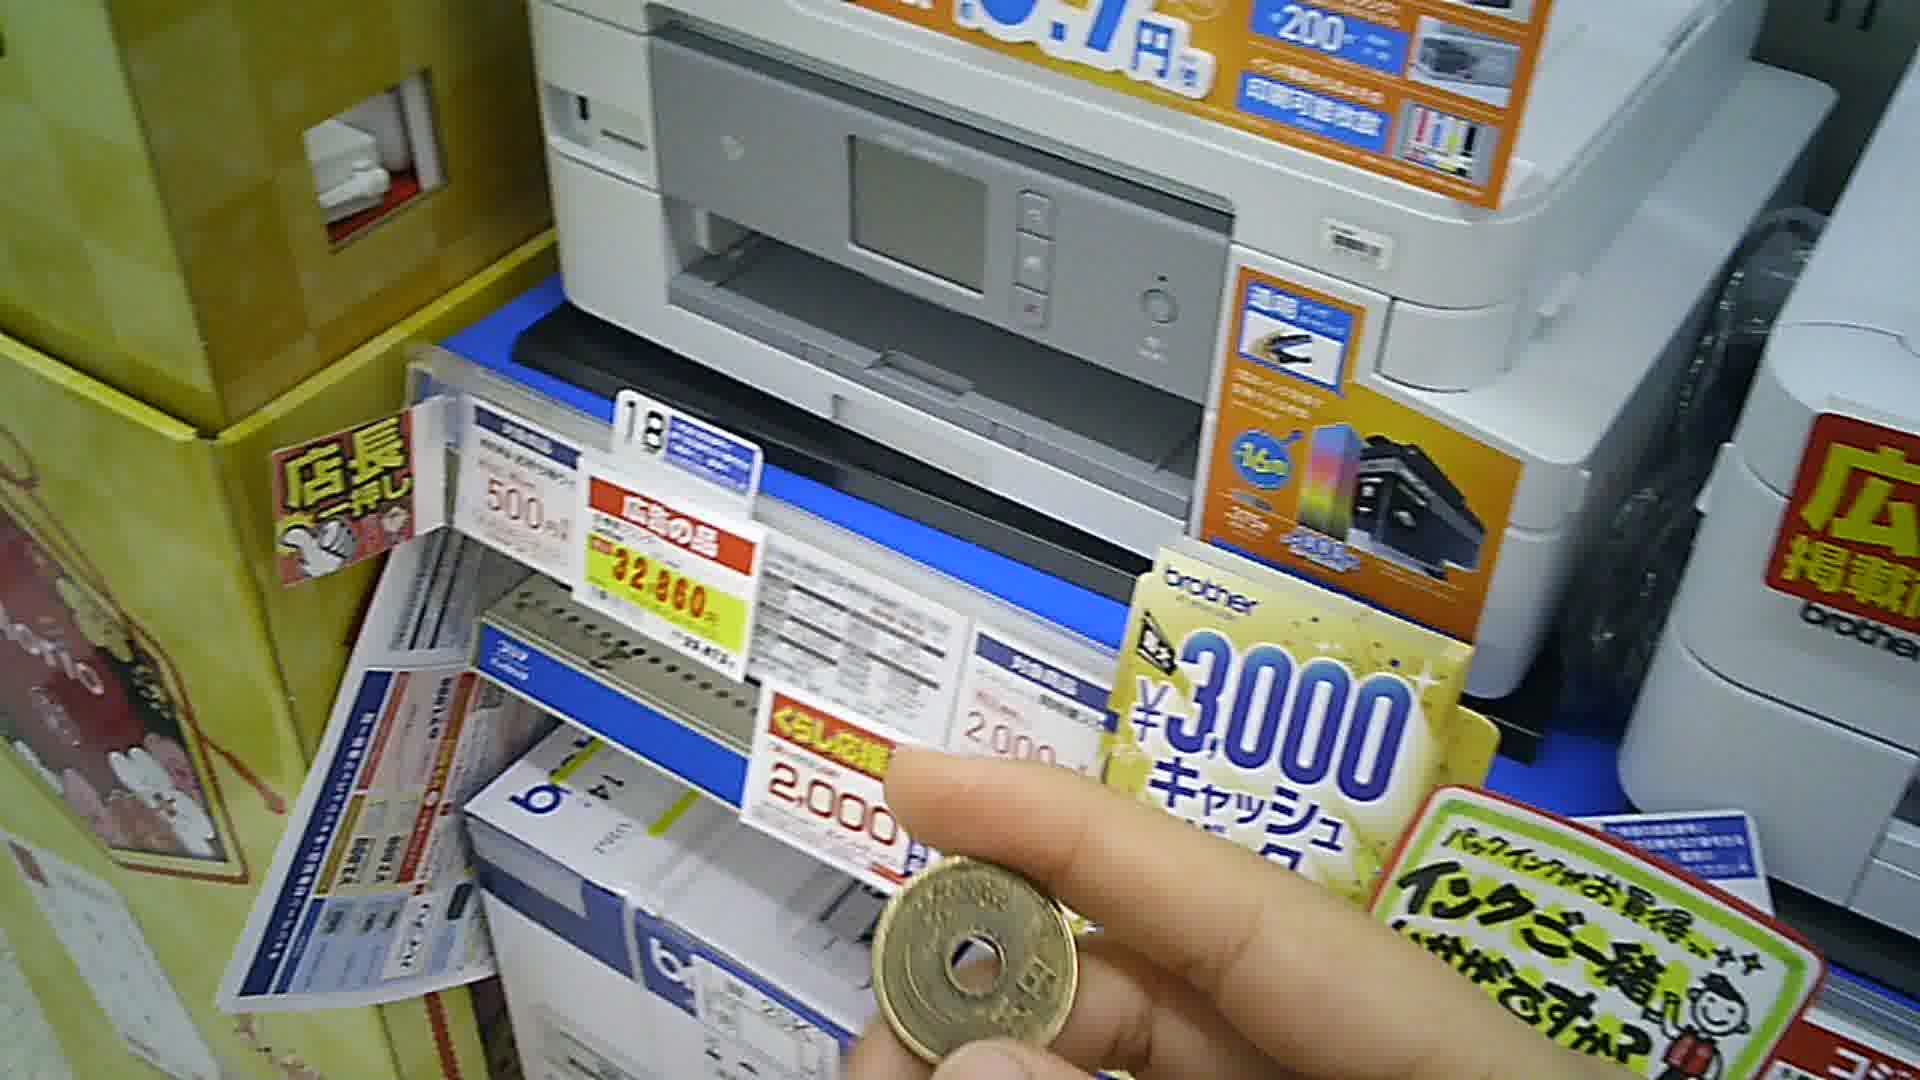5 Yen: (872, 844, 1077, 1067)
